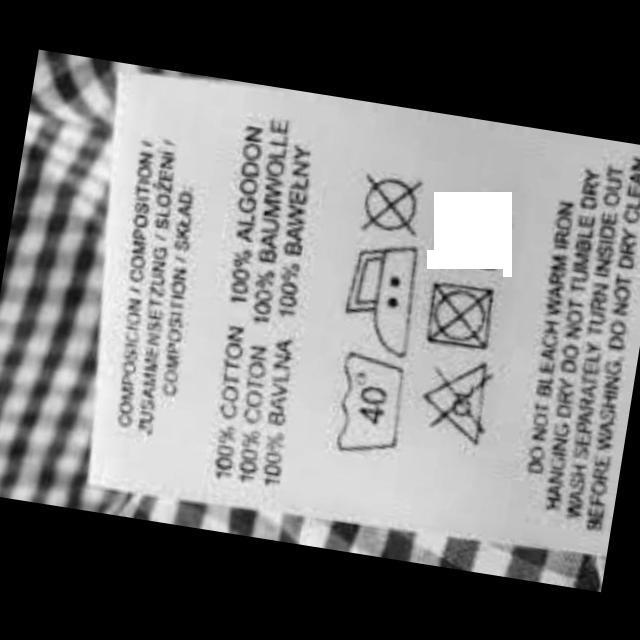40C: (325, 342, 414, 466)
DN_bleach: (413, 346, 504, 449)
DN_dry_clean: (350, 163, 433, 249)
DN_tumble_dry: (418, 270, 502, 356)
iron_medium: (329, 228, 426, 359)
